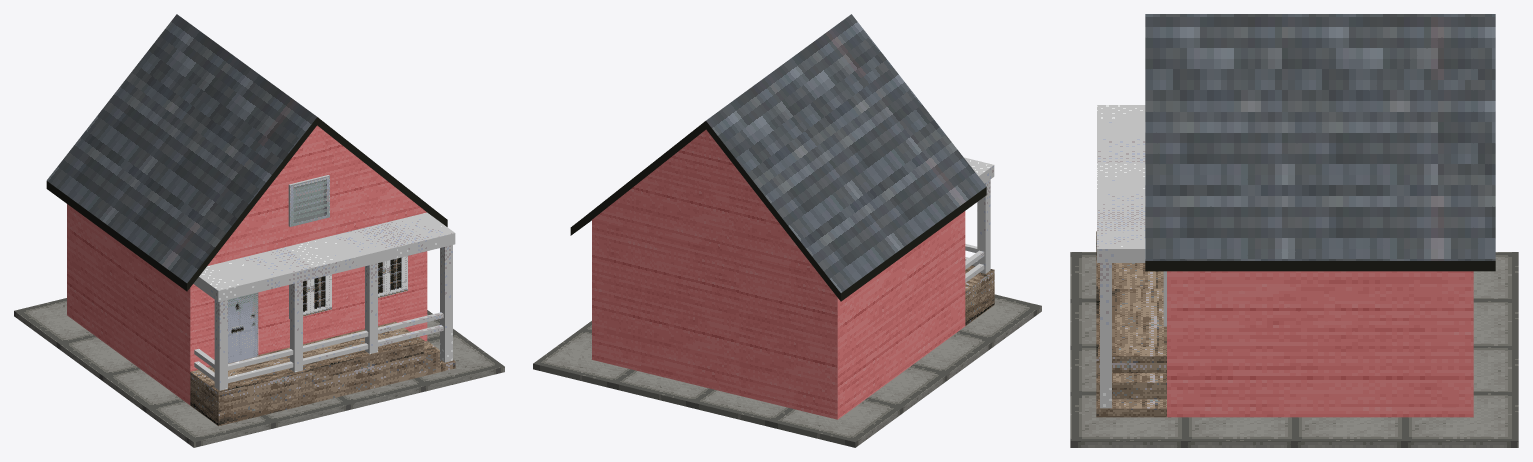
Rendered from House.glb.
The picture shows the model from 3 angles, left to right: view 1: azimuth 30°, elevation 25°; view 2: azimuth 150°, elevation 25°; view 3: azimuth 270°, elevation 25°; orthographic projection. The views are drawn at different scales.
Parts seen in each view (by area): view 1: Cube.011; view 2: Cube.011; view 3: Cube.011.
Part boxes in pixels (left/top/right/bottom): Cube.011: left=14, top=14, right=504, bottom=447; Cube.011: left=533, top=14, right=1041, bottom=447; Cube.011: left=1070, top=14, right=1518, bottom=447.
Bounding box in the file's own units: 39.79 × 33.32 × 39.87.
Materials: 2 (2 with a texture image).
